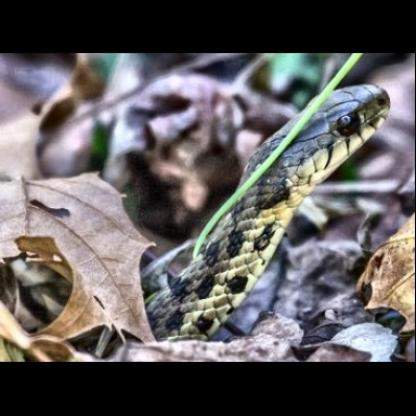Snake: (136, 78, 400, 340)
